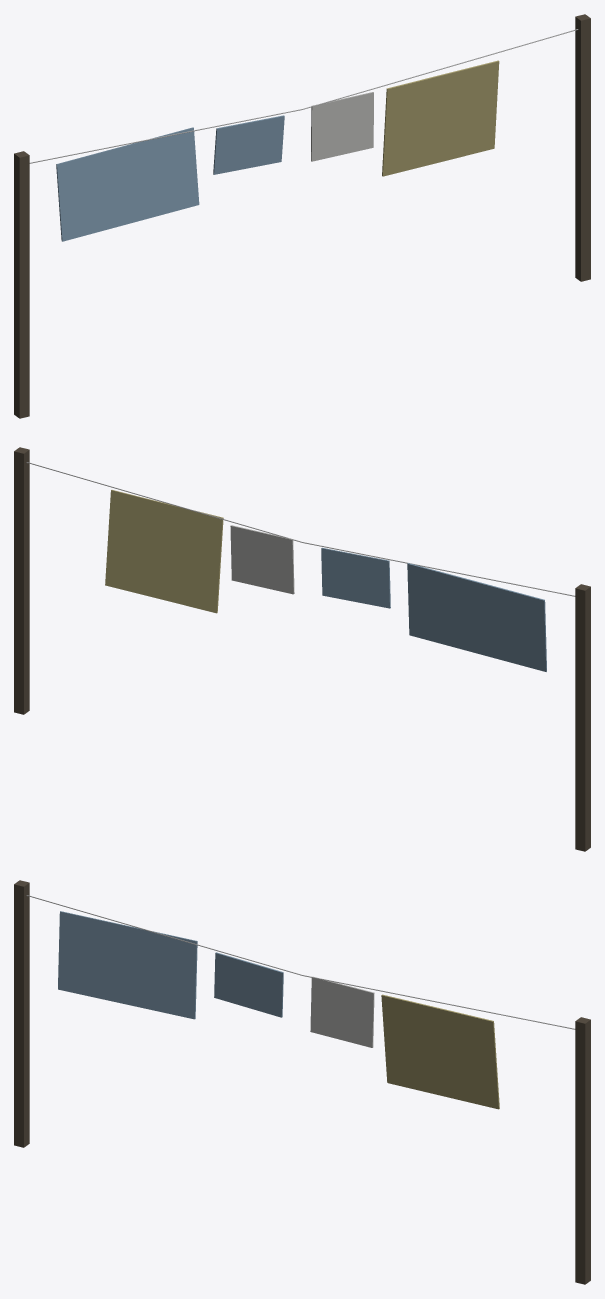
File: SM_WashingLine_2_Wood.glb
3 views of the same model, one above another, from view 1: azimuth 30°, elevation 25°; view 2: azimuth 150°, elevation 25°; view 3: azimuth 330°, elevation 25° (orthographic).
Parts seen in each view (by area): view 1: SM_WashingLine_2_Wood; view 2: SM_WashingLine_2_Wood; view 3: SM_WashingLine_2_Wood.
Part boxes in pixels (left/top/right/bottom): SM_WashingLine_2_Wood: left=14, top=14, right=590, bottom=418; SM_WashingLine_2_Wood: left=14, top=447, right=590, bottom=851; SM_WashingLine_2_Wood: left=14, top=880, right=590, bottom=1284.
Size of the model in its own units: 4.58 by 2 by 0.0855.
